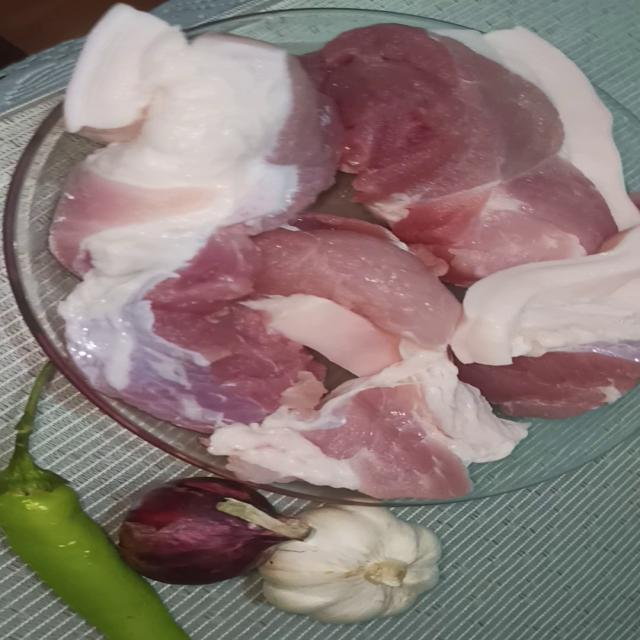chili_pepper: (0, 396, 178, 640)
garlic: (207, 509, 474, 629)
onion: (71, 477, 299, 580)
pork: (35, 10, 335, 260), (299, 27, 593, 188), (142, 377, 563, 480), (54, 260, 306, 420), (231, 222, 456, 373), (364, 162, 640, 272), (450, 262, 640, 418)
